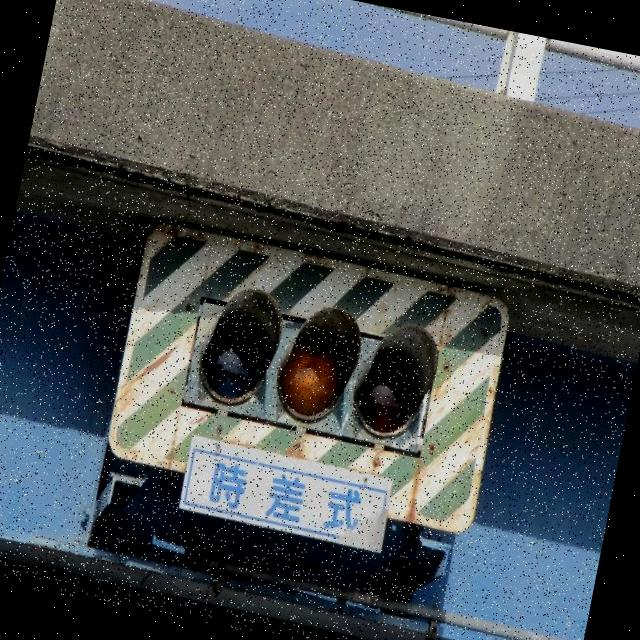yellow_light: (274, 289, 358, 432)
